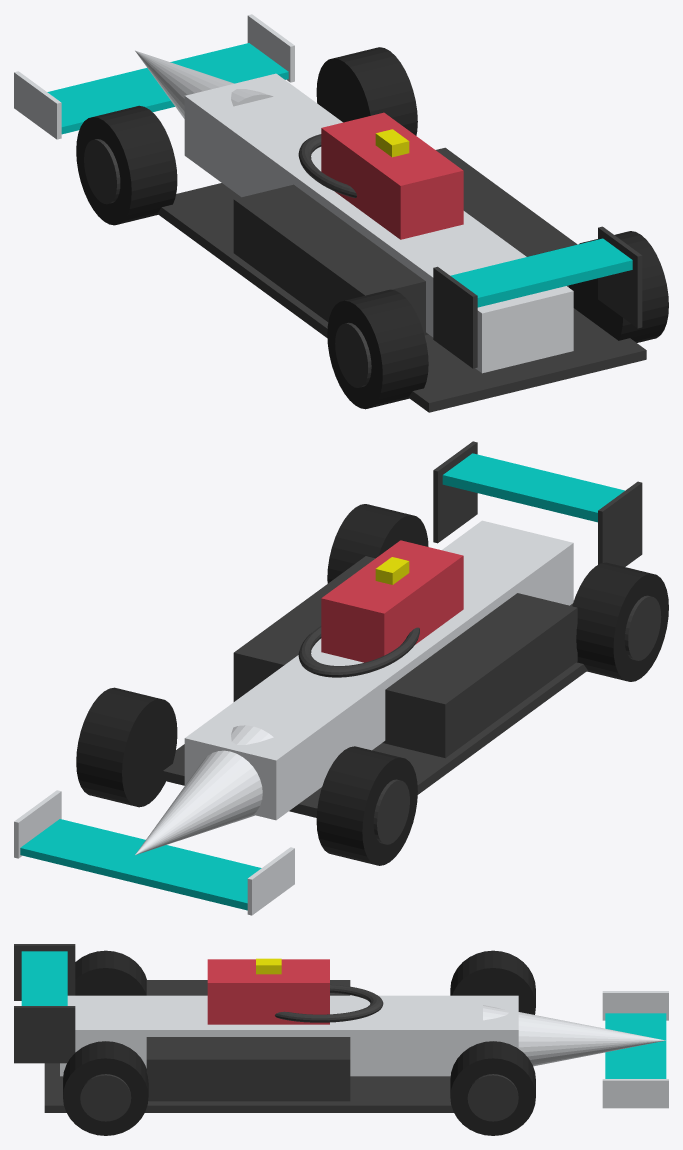
3 renders of one model, top to bottom at view 1: azimuth 30°, elevation 25°; view 2: azimuth 150°, elevation 25°; view 3: azimuth 270°, elevation 25°, orthographic. The views are drawn at different scales.
Parts seen in each view (by area): view 1: F1_Chassis, F1_Sidepod_Kiri, F1_Floor, F1_Airbox, Tire_Belakang_Kiri, Tire_Depan_Kiri, F1_Front_Wing, Tire_Depan_Kanan, F1_Rear_Wing, F1_Sidepod_Kanan, Tire_Belakang_Kanan, Cube.002 (+8 smaller); view 2: F1_Chassis, F1_Sidepod_Kiri, F1_Airbox, F1_Front_Wing, Tire_Depan_Kanan, Tire_Depan_Kiri, Tire_Belakang_Kiri, F1_Nose, F1_Rear_Wing, F1_Floor, F1_Sidepod_Kanan, Tire_Belakang_Kanan (+8 smaller); view 3: F1_Chassis, F1_Sidepod_Kanan, F1_Airbox, F1_Floor, Tire_Depan_Kanan, Tire_Belakang_Kanan, F1_Nose, Cube.003, Tire_Depan_Kiri, F1_Front_Wing, Tire_Belakang_Kiri, F1_Rear_Wing (+8 smaller).
Part boxes in pixels (x1,y1,x2,y2): F1_Chassis: (184,73,573,373); F1_Sidepod_Kiri: (233,184,428,335); F1_Floor: (157,183,646,412); F1_Airbox: (321,112,463,239); Tire_Belakang_Kiri: (327,289,428,409); Tire_Depan_Kiri: (76,105,177,225); F1_Front_Wing: (47,43,288,134); Tire_Depan_Kanan: (316,47,417,135); F1_Rear_Wing: (450,238,632,307); F1_Sidepod_Kanan: (436,147,577,287); Tire_Belakang_Kanan: (569,231,668,342); Cube.002: (433,266,477,368); F1_Chassis: (184,520,573,820); F1_Sidepod_Kiri: (382,593,577,758); F1_Airbox: (321,540,463,662); F1_Front_Wing: (20,819,261,910); Tire_Depan_Kanan: (76,687,177,807); Tire_Depan_Kiri: (316,746,417,865); Tire_Belakang_Kiri: (572,562,668,681); F1_Nose: (135,725,273,855); F1_Rear_Wing: (442,453,624,522); F1_Floor: (163,600,587,817); F1_Sidepod_Kanan: (233,556,375,701); Tire_Belakang_Kanan: (327,504,428,583); F1_Chassis: (60,995,518,1076); F1_Sidepod_Kanan: (146,1037,350,1101); F1_Airbox: (207,959,329,1024); F1_Floor: (44,1063,453,1112); Tire_Depan_Kanan: (450,1041,535,1135); Tire_Belakang_Kanan: (63,1041,148,1135); F1_Nose: (483,1005,665,1066); Cube.003: (14,1006,75,1063); Tire_Depan_Kiri: (450,950,535,1014); F1_Front_Wing: (605,1013,666,1078); Tire_Belakang_Kiri: (75,950,146,995); F1_Rear_Wing: (21,951,67,1005).
Size of the model in its own units: 2.56 by 1.3 by 6.43.
